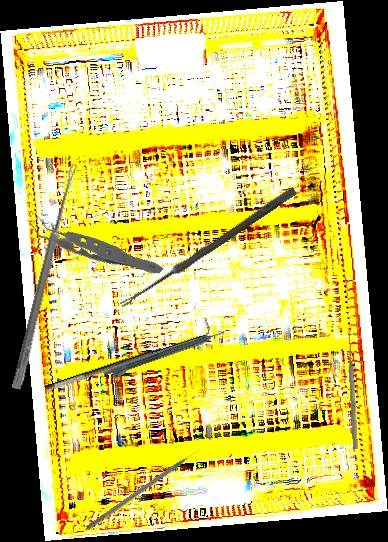Handpiece: (102, 327, 228, 384)
Hook Surgical: (39, 318, 214, 394), (85, 446, 204, 532)
Pusher: (345, 333, 360, 450)
Surgical Spoon: (118, 185, 298, 311), (11, 162, 79, 391)
Tissue Forceps: (25, 171, 165, 318)
